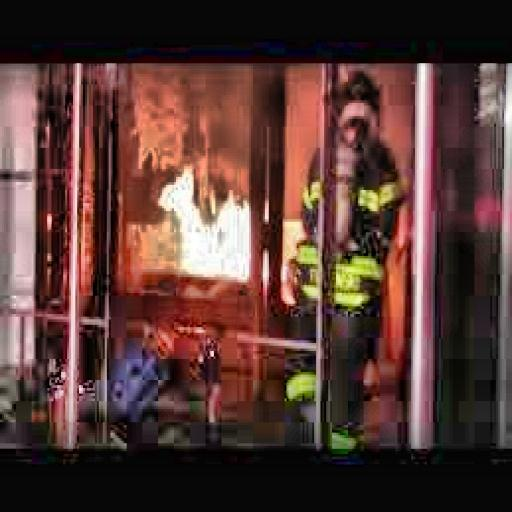fire: (140, 148, 285, 293)
